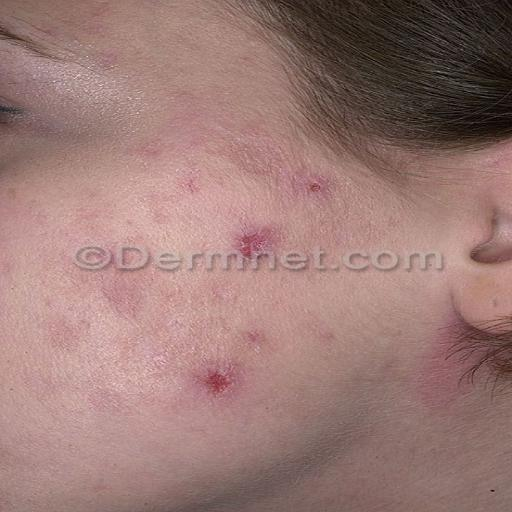Skin_Lesion: (150, 118, 232, 200), (182, 353, 263, 407), (220, 217, 300, 270), (287, 153, 341, 207)
